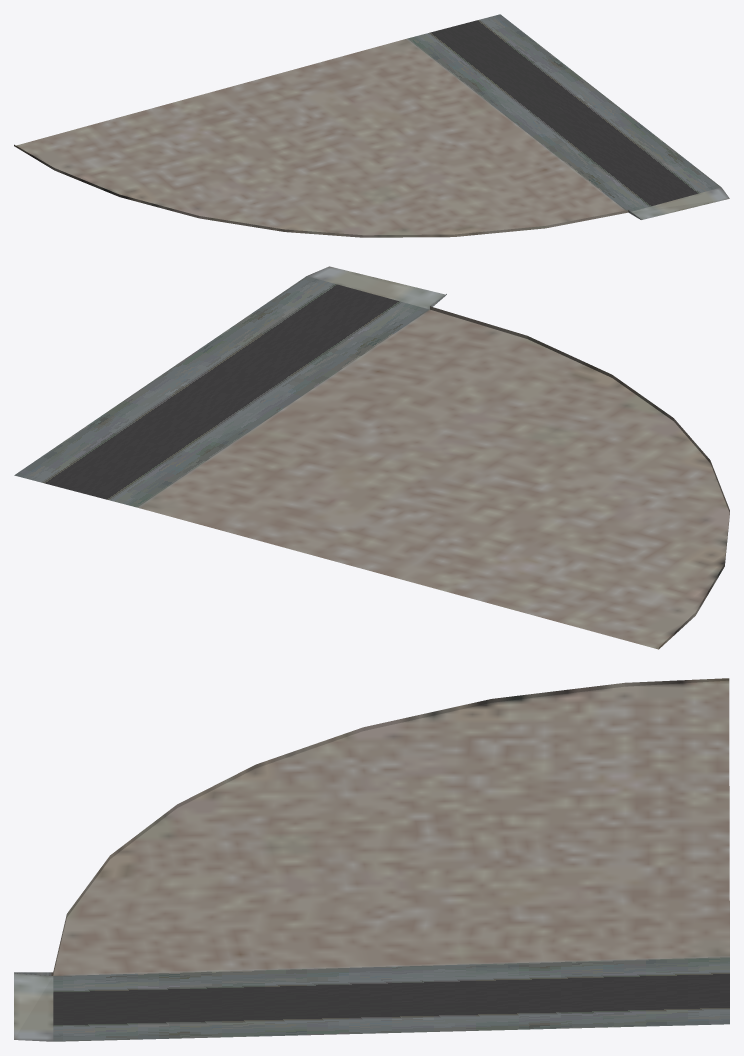
The model's file is lodckaa_las2.obj.
3 views of the same model, one above another, from view 1: azimuth 30°, elevation 25°; view 2: azimuth 150°, elevation 25°; view 3: azimuth 270°, elevation 25° (orthographic). The views are drawn at different scales.
Visible parts, largest first — view 1: LODckAA_las2; view 2: LODckAA_las2; view 3: LODckAA_las2.
Part boxes in pixels (x1=…): LODckAA_las2: x1=14, y1=14, x2=729, y2=237; LODckAA_las2: x1=14, y1=266, x2=729, y2=649; LODckAA_las2: x1=14, y1=678, x2=729, y2=1041.
Bounding box in the file's own units: 110 × 2.99 × 91.32.
Materials: 2 (2 with a texture image).
